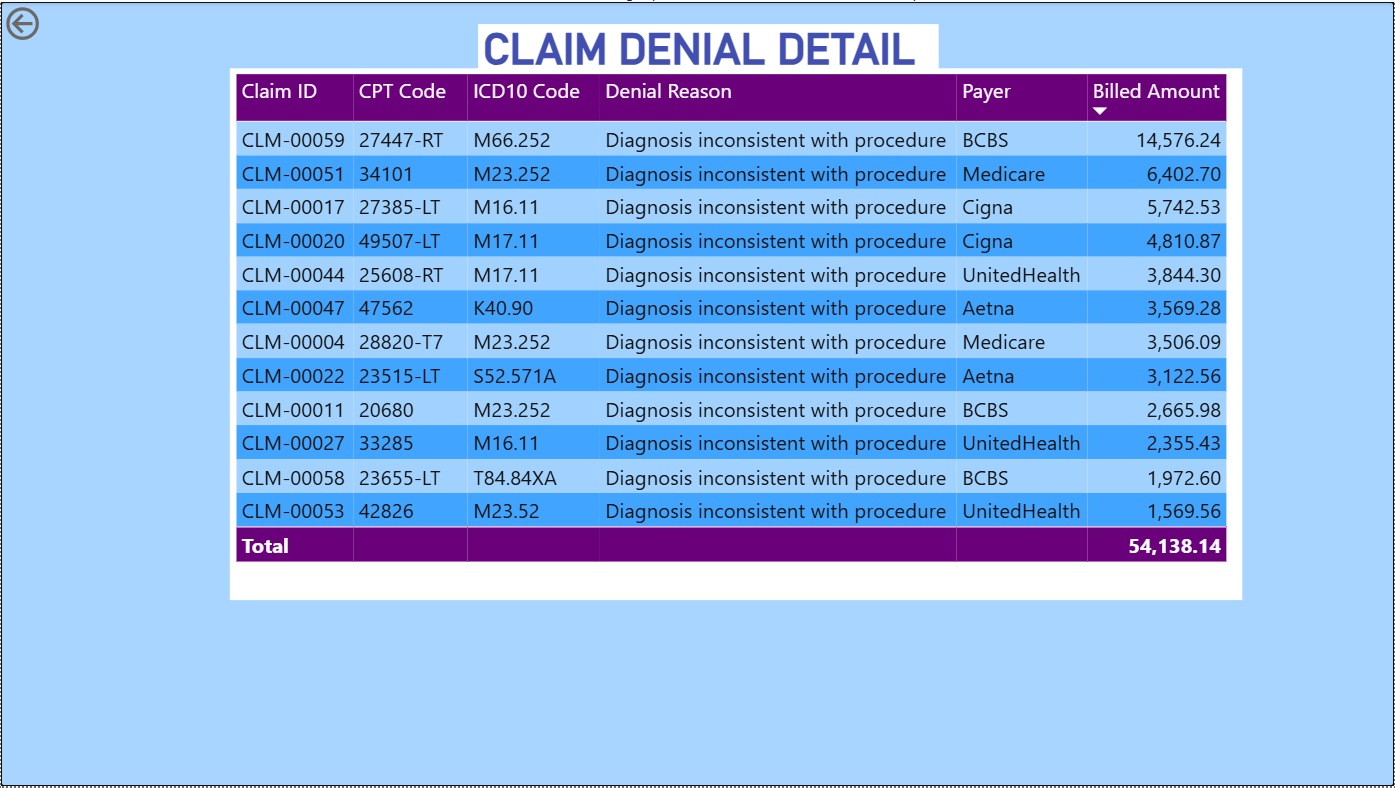

What the dashboard file says about the page in this screenshot:
{"tool":"powerbi","page":{"name":"Claim Detail","canvas":[1280,720],"ordinal":1},"visuals":[{"type":"tableEx","fields":{"Values":["Claims.claim_id","Claims.cpt_code","Claims.icd10_code","Claims.denial_reason_desc","Claims.payer","Sum(Claims.billed_amount)"]},"box":[210,61.4,930,488.6],"z":0},{"type":"actionButton","box":[0,0,100,40],"z":1000},{"type":"textbox","title":"CLAIM DENIAL DETAIL","box":[438.6,20,422.9,41.4],"z":2000}]}

Visuals, with their boxes in screenshot pixels (x1, y1, x2, y2), scaled from the page's 1280x720 canvas onto the 1395x788 screenshot:
tableEx - Claims.claim_id x Claims.cpt_code: <box>229,67,1242,602</box>
actionButton: <box>0,0,109,44</box>
"CLAIM DENIAL DETAIL" textbox: <box>478,22,939,67</box>
